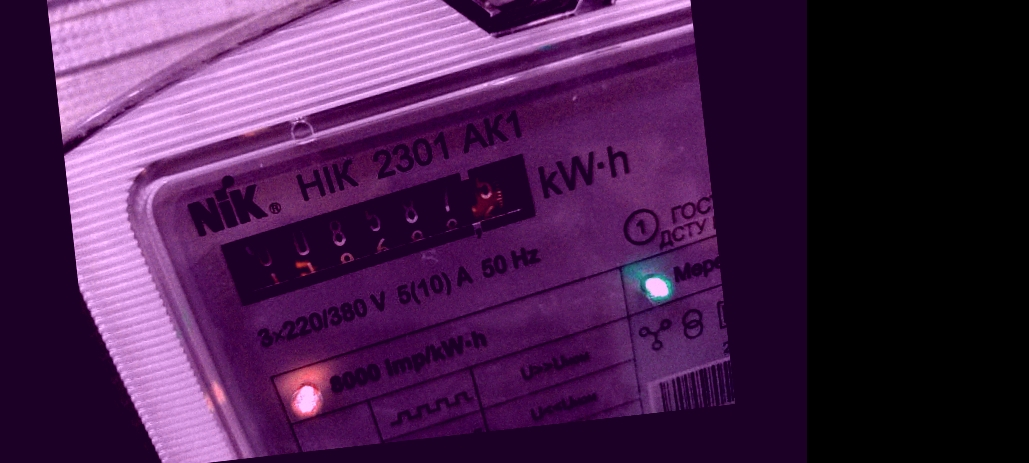0: (285, 221, 315, 258), (249, 234, 278, 268)
5: (360, 200, 386, 234), (470, 166, 496, 199)
6: (479, 201, 499, 220)
7: (433, 179, 458, 216)
8: (324, 213, 351, 248), (396, 190, 422, 226)
screen: (206, 148, 564, 308)
